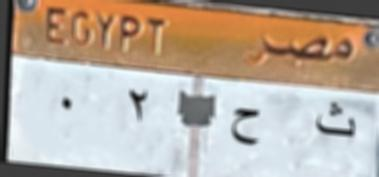0: (53, 83, 82, 128)
2: (116, 86, 159, 129)
7aa: (216, 99, 276, 158)
thaa: (311, 100, 362, 150)
